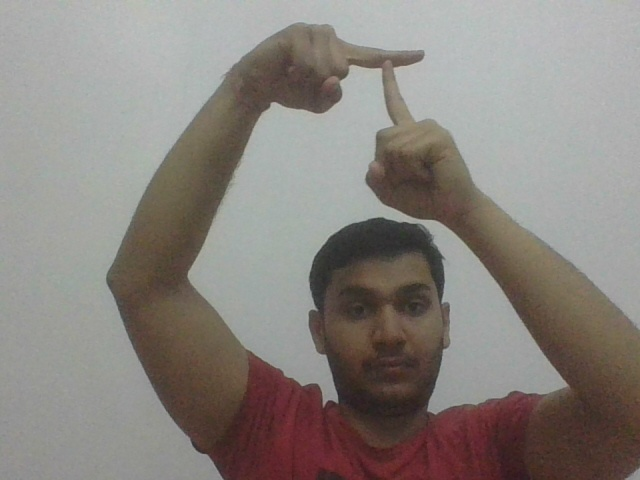T: (353, 40, 432, 118)
